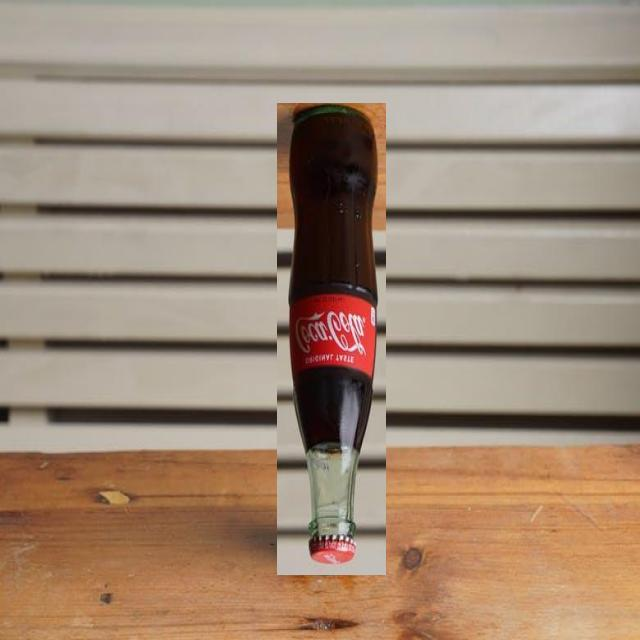coca-cola: (277, 103, 386, 575)
